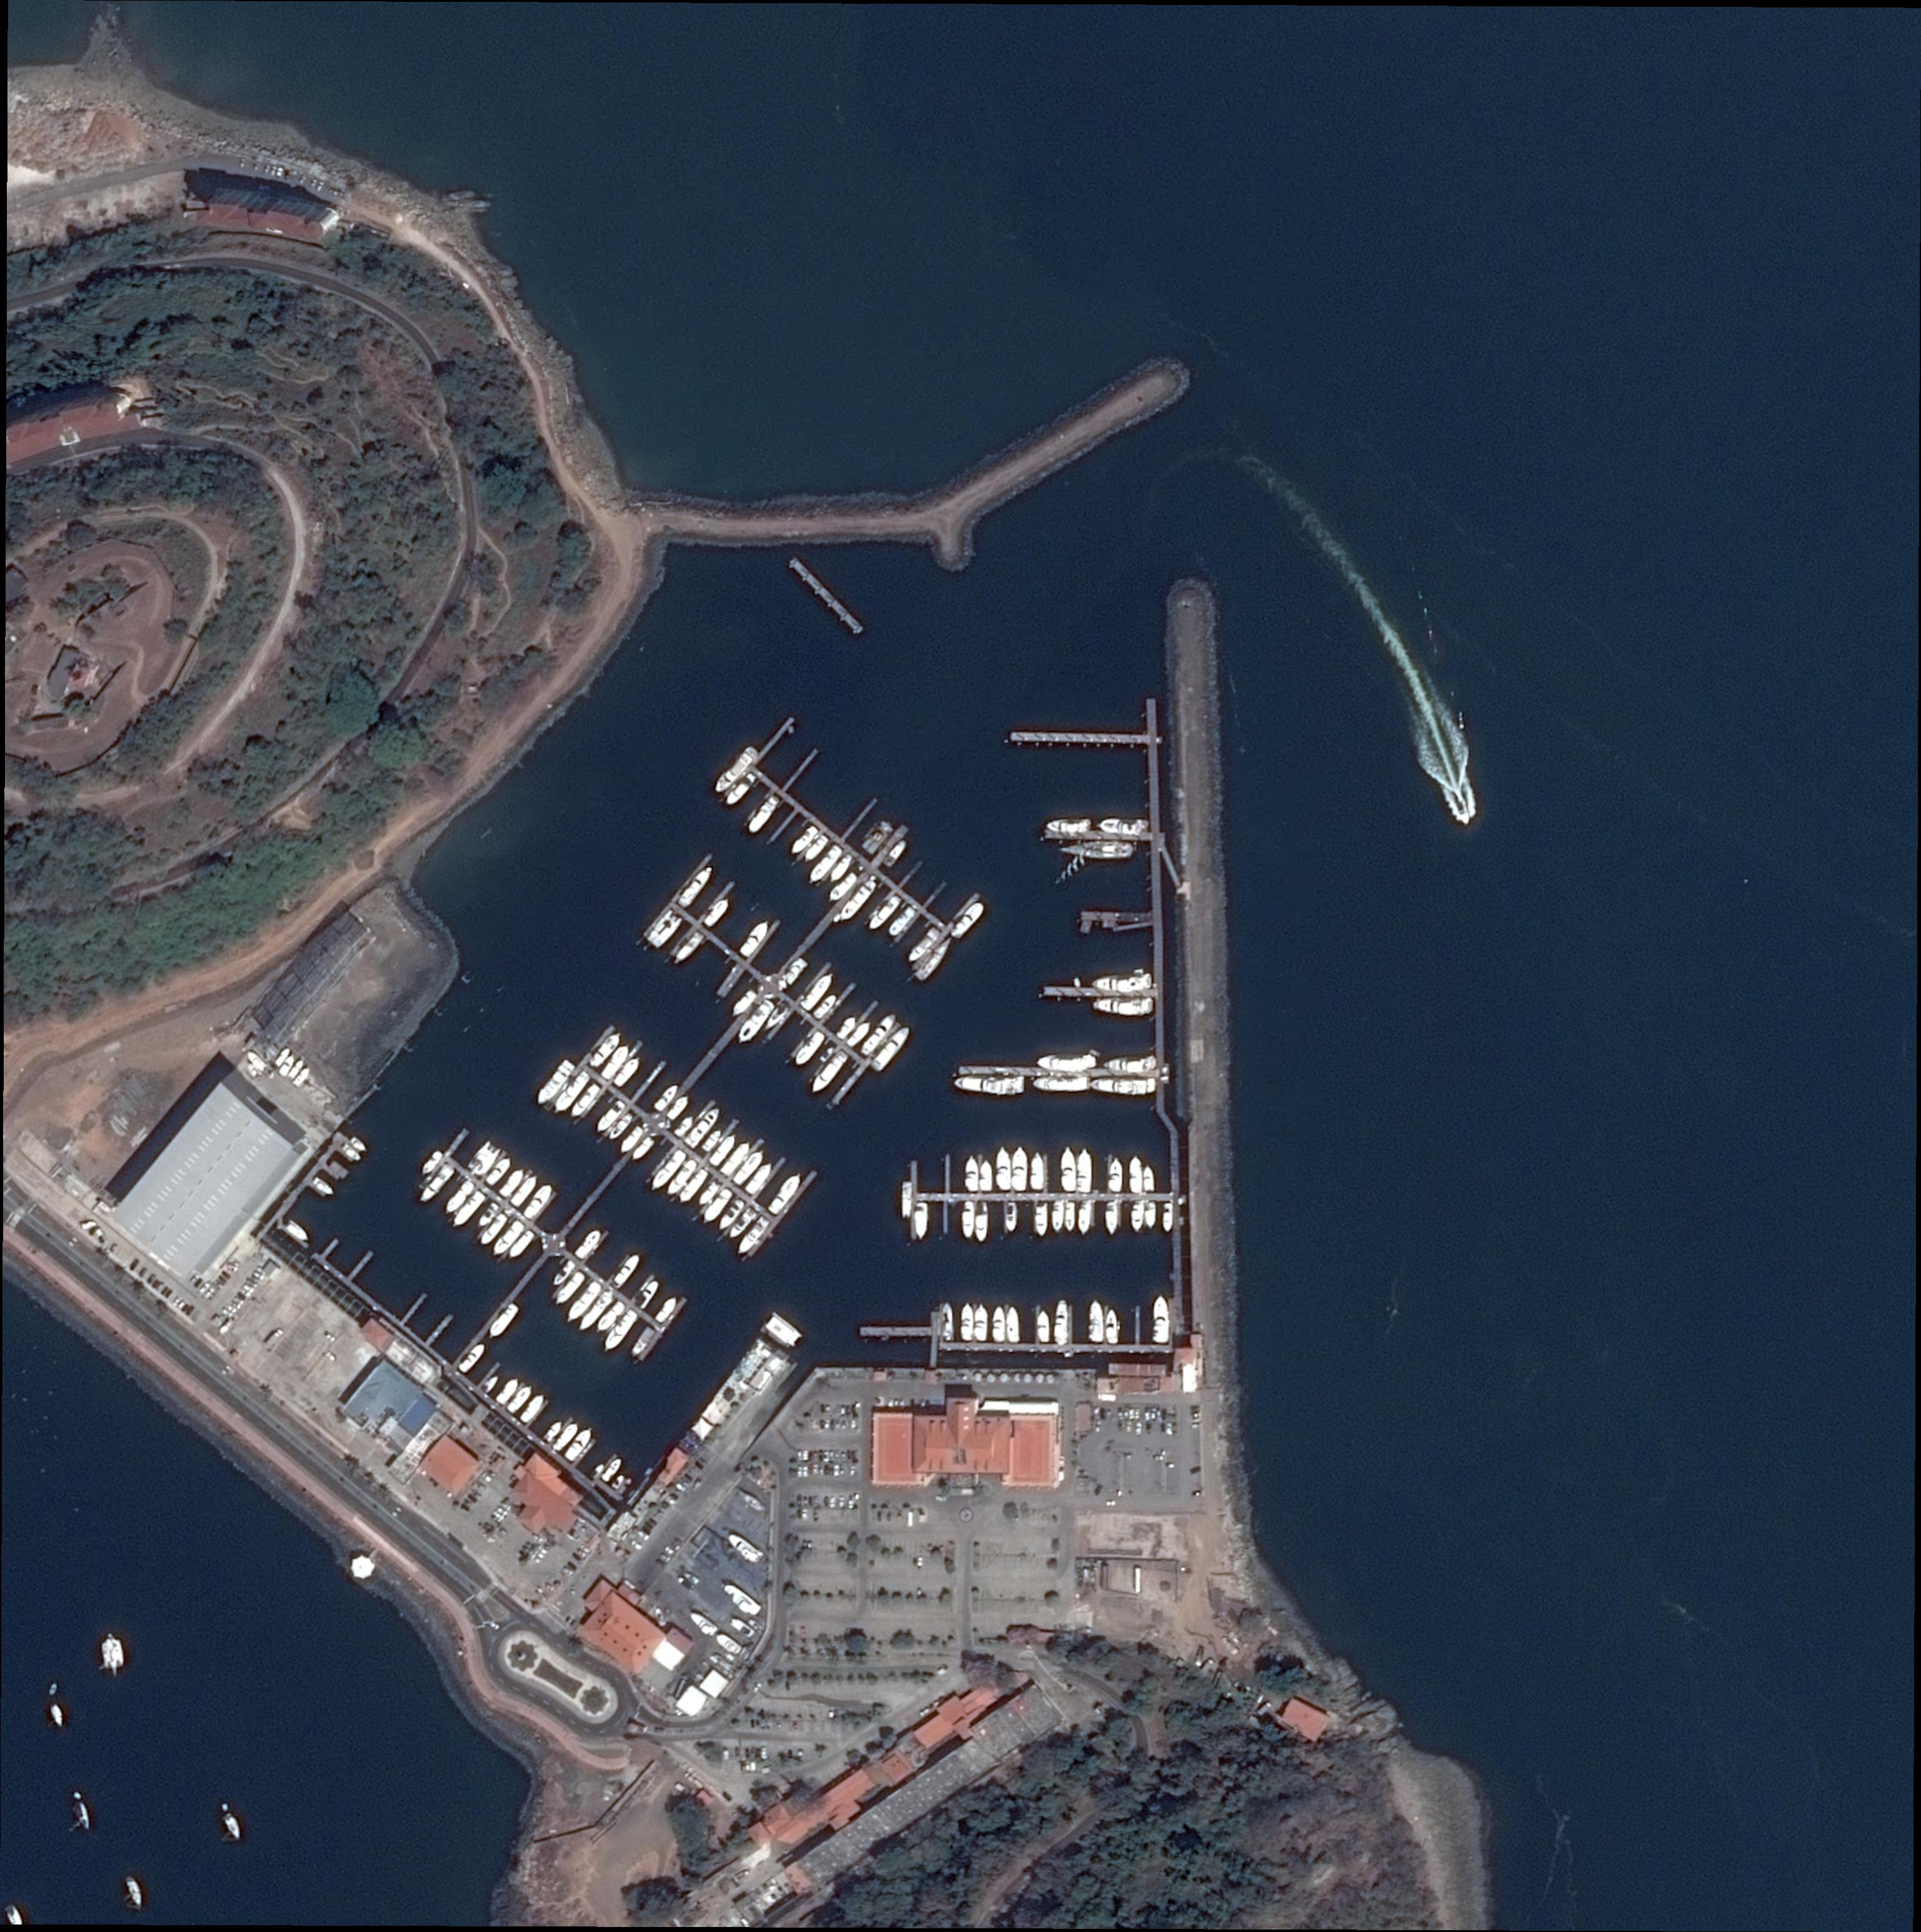harbor: (310, 1222, 648, 1506), (703, 705, 1005, 997), (398, 1109, 701, 1382), (526, 1004, 825, 1274), (630, 850, 922, 1120), (895, 1143, 1180, 1248), (787, 555, 867, 637), (1010, 729, 1147, 746), (858, 1325, 932, 1338)
ship: (712, 745, 760, 794), (734, 998, 776, 1047), (535, 1058, 577, 1107), (869, 1025, 912, 1073), (807, 1050, 849, 1096), (837, 878, 879, 923), (563, 1280, 604, 1325), (914, 937, 954, 983), (575, 1289, 616, 1334), (552, 1070, 592, 1115), (859, 1012, 898, 1058), (683, 1106, 723, 1150), (601, 1309, 640, 1353), (649, 1149, 688, 1192), (767, 1172, 804, 1217), (762, 1312, 804, 1350), (805, 845, 844, 886), (949, 899, 987, 942), (677, 866, 713, 910), (418, 1162, 456, 1204), (744, 794, 782, 835), (721, 1583, 762, 1620), (1062, 841, 1135, 861), (799, 971, 834, 1013), (736, 1216, 771, 1257), (906, 926, 942, 966), (866, 895, 903, 933), (956, 1076, 1025, 1096), (724, 1532, 764, 1567), (588, 1032, 623, 1071), (490, 1219, 526, 1258), (792, 1030, 827, 1068), (738, 919, 771, 959), (731, 1149, 766, 1187), (452, 1191, 486, 1228), (521, 1181, 554, 1221), (568, 1082, 602, 1120), (608, 1253, 642, 1290), (666, 1158, 699, 1197), (724, 772, 758, 808), (487, 1303, 521, 1340), (720, 1140, 753, 1178), (862, 819, 895, 856), (677, 1168, 709, 1206), (701, 1187, 733, 1225), (774, 957, 808, 993), (443, 1180, 476, 1216), (553, 1270, 586, 1306), (1095, 997, 1153, 1017), (593, 1300, 628, 1334), (595, 1099, 627, 1135), (600, 1044, 631, 1081), (827, 872, 860, 905), (563, 1429, 595, 1463), (1092, 1079, 1156, 1096), (651, 916, 683, 949), (673, 931, 705, 965), (478, 1212, 510, 1247), (744, 1161, 774, 1197), (708, 1133, 738, 1168), (887, 905, 918, 938), (789, 825, 820, 857), (727, 1207, 757, 1241), (510, 1174, 540, 1207), (1092, 974, 1152, 991), (1037, 1054, 1096, 1071), (717, 1198, 747, 1231), (550, 1421, 580, 1454), (506, 1229, 537, 1261), (458, 1341, 487, 1374), (573, 1228, 603, 1261), (646, 909, 675, 943), (1034, 1076, 1092, 1092), (612, 1057, 641, 1088), (687, 1609, 719, 1638), (498, 1167, 526, 1199), (505, 1384, 534, 1415), (882, 838, 909, 871), (729, 988, 759, 1018), (703, 898, 731, 929), (827, 853, 855, 884), (518, 1393, 546, 1424), (473, 1147, 500, 1178), (1152, 1295, 1169, 1343), (467, 1141, 494, 1171), (485, 1157, 513, 1187), (634, 1279, 661, 1310), (802, 834, 830, 863), (631, 1327, 656, 1358), (124, 1874, 147, 1908), (101, 1638, 126, 1670), (607, 1112, 634, 1141), (764, 1001, 789, 1031), (1098, 818, 1148, 833), (846, 1021, 871, 1049), (222, 1810, 245, 1841), (1077, 1148, 1092, 1194), (654, 1084, 679, 1112), (419, 1149, 445, 1177), (653, 1295, 678, 1324), (715, 1631, 742, 1657), (619, 1126, 644, 1154), (551, 1259, 576, 1287), (1060, 1147, 1076, 1192), (737, 1489, 767, 1512), (1104, 1056, 1156, 1069), (812, 994, 837, 1021), (631, 1136, 656, 1163), (495, 1377, 520, 1405), (1089, 1300, 1104, 1343), (1013, 1147, 1028, 1191), (666, 1094, 690, 1122), (996, 1147, 1010, 1191), (1054, 1299, 1068, 1345), (477, 1202, 500, 1229), (72, 1800, 93, 1830), (974, 1201, 989, 1242), (729, 1617, 756, 1639), (697, 1181, 720, 1207), (285, 1220, 311, 1242), (1047, 820, 1092, 833), (834, 1016, 857, 1041), (701, 1129, 723, 1154), (600, 1458, 623, 1483), (1453, 798, 1473, 826), (245, 1049, 267, 1073), (960, 1303, 974, 1342), (964, 1156, 979, 1192), (542, 1420, 564, 1444), (312, 1176, 335, 1197), (1129, 1156, 1143, 1194), (1030, 1152, 1044, 1190), (1007, 1305, 1020, 1344), (975, 1304, 988, 1343), (1105, 1201, 1119, 1236), (674, 1115, 694, 1139), (1078, 1202, 1092, 1237), (962, 1201, 975, 1238), (993, 1306, 1005, 1343), (942, 1303, 954, 1342), (1130, 1201, 1145, 1232), (1051, 1201, 1065, 1232), (917, 1201, 928, 1239), (279, 1055, 297, 1077), (1106, 1310, 1119, 1344), (901, 1181, 912, 1218), (292, 1067, 311, 1088), (1037, 1312, 1050, 1343), (1035, 1203, 1047, 1237), (1110, 1158, 1122, 1192), (274, 1046, 292, 1069), (4, 1903, 23, 1925), (49, 1703, 66, 1727), (288, 1058, 305, 1080), (981, 1161, 993, 1192), (1163, 1204, 1175, 1233), (1064, 1202, 1076, 1231), (1006, 1202, 1018, 1232), (342, 1146, 362, 1163), (481, 1375, 499, 1394), (1145, 1202, 1157, 1230), (349, 1136, 367, 1152), (590, 1462, 606, 1479), (1143, 1167, 1155, 1192), (618, 1477, 633, 1494), (733, 1869, 751, 1884), (654, 1607, 667, 1627), (819, 1047, 834, 1064), (678, 1576, 694, 1591), (682, 1571, 699, 1585), (746, 1617, 762, 1632), (612, 1474, 625, 1490), (48, 1682, 59, 1697)
